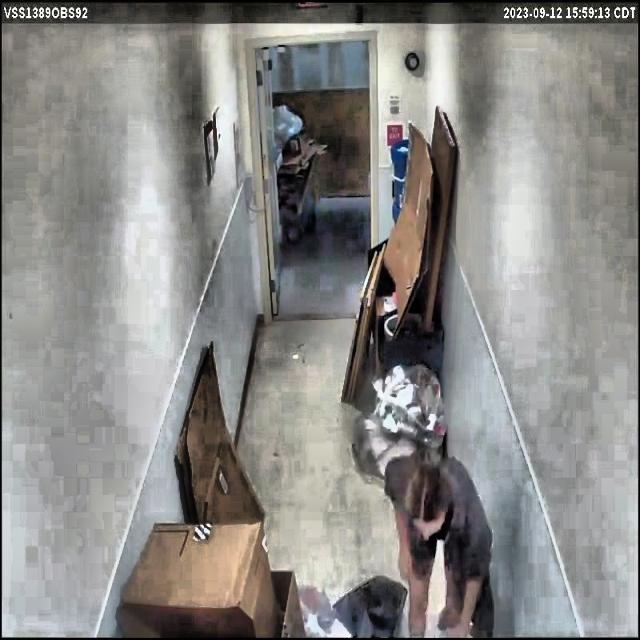not-gloved: (398, 543, 422, 583)
